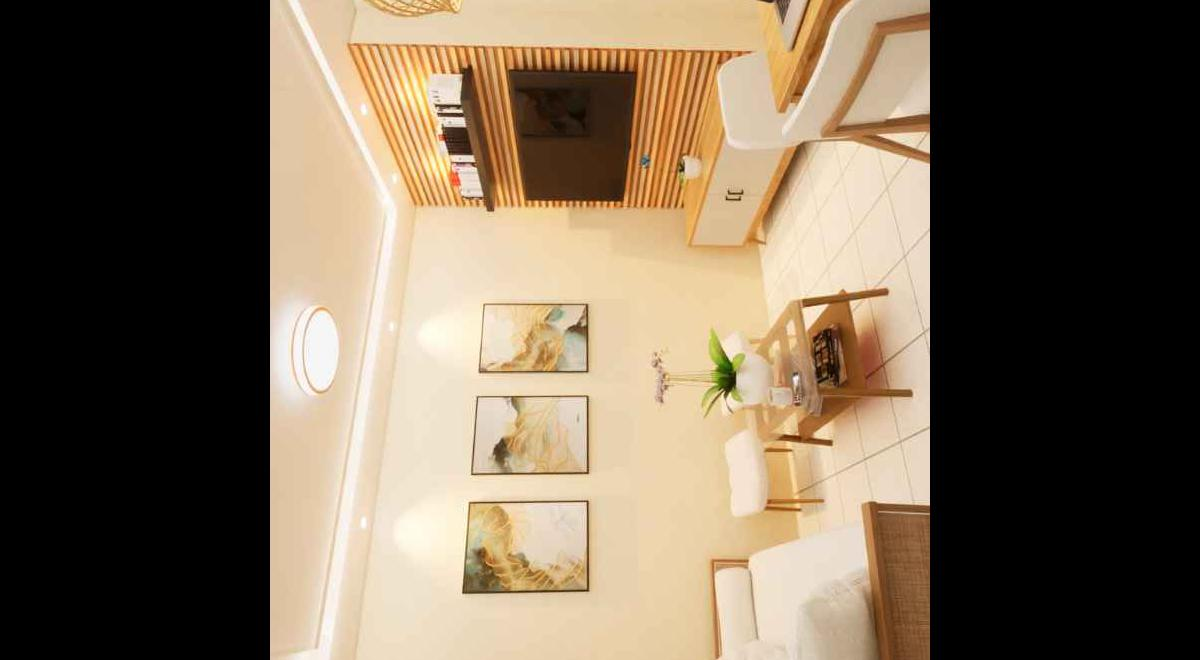controlled_fire: (283, 286, 356, 430)
